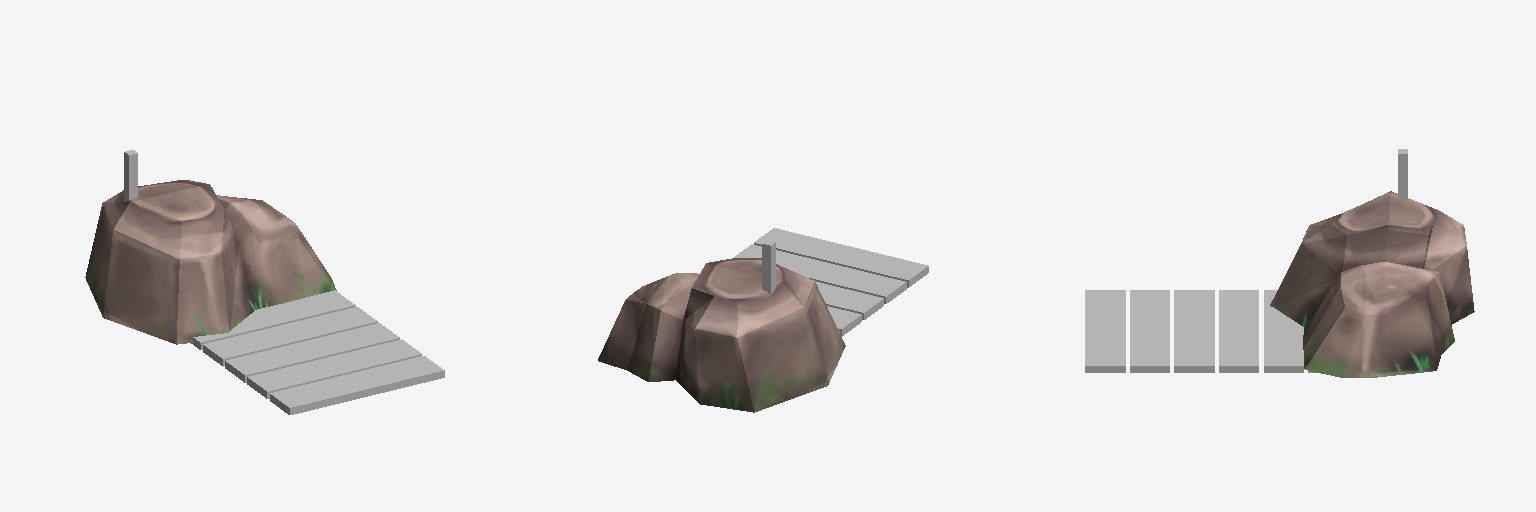
The picture shows the model from 3 angles: view 1: azimuth 30°, elevation 25°; view 2: azimuth 150°, elevation 25°; view 3: azimuth 270°, elevation 25°; orthographic projection.
Visible parts, largest first — view 1: Cube.002_Cube.005, Cube.003_Mesh.016, Cube.001_Cube.000; view 2: Cube.002_Cube.005, Cube.003_Mesh.016, Cube.001_Cube.000; view 3: Cube.002_Cube.005, Cube.003_Mesh.016.
Boxes of the visible parts, x1=… form: Cube.002_Cube.005: x1=85, y1=180, x2=336, y2=344; Cube.003_Mesh.016: x1=191, y1=290, x2=444, y2=414; Cube.001_Cube.000: x1=124, y1=150, x2=137, y2=201; Cube.002_Cube.005: x1=598, y1=258, x2=845, y2=412; Cube.003_Mesh.016: x1=734, y1=228, x2=928, y2=336; Cube.001_Cube.000: x1=762, y1=240, x2=775, y2=294; Cube.002_Cube.005: x1=1270, y1=191, x2=1474, y2=377; Cube.003_Mesh.016: x1=1085, y1=290, x2=1316, y2=372.
Bounding box in the file's own units: 10.47 × 6.94 × 16.6.
Materials: 2 (1 with a texture image).